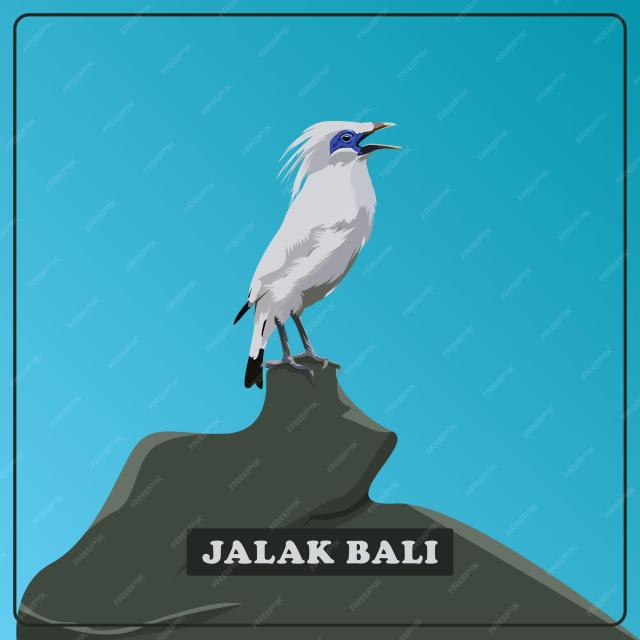Jalak Bali: (206, 84, 407, 400)
